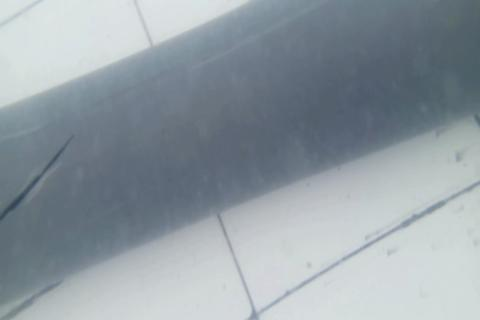keretakan: (0, 133, 78, 223)
